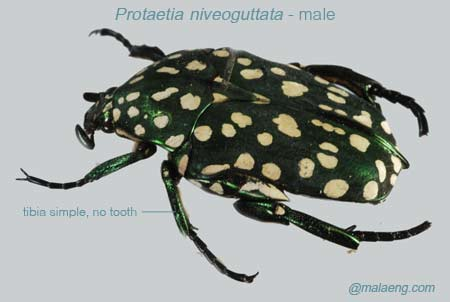Protaetia_niveoguttata: (14, 25, 435, 289)
